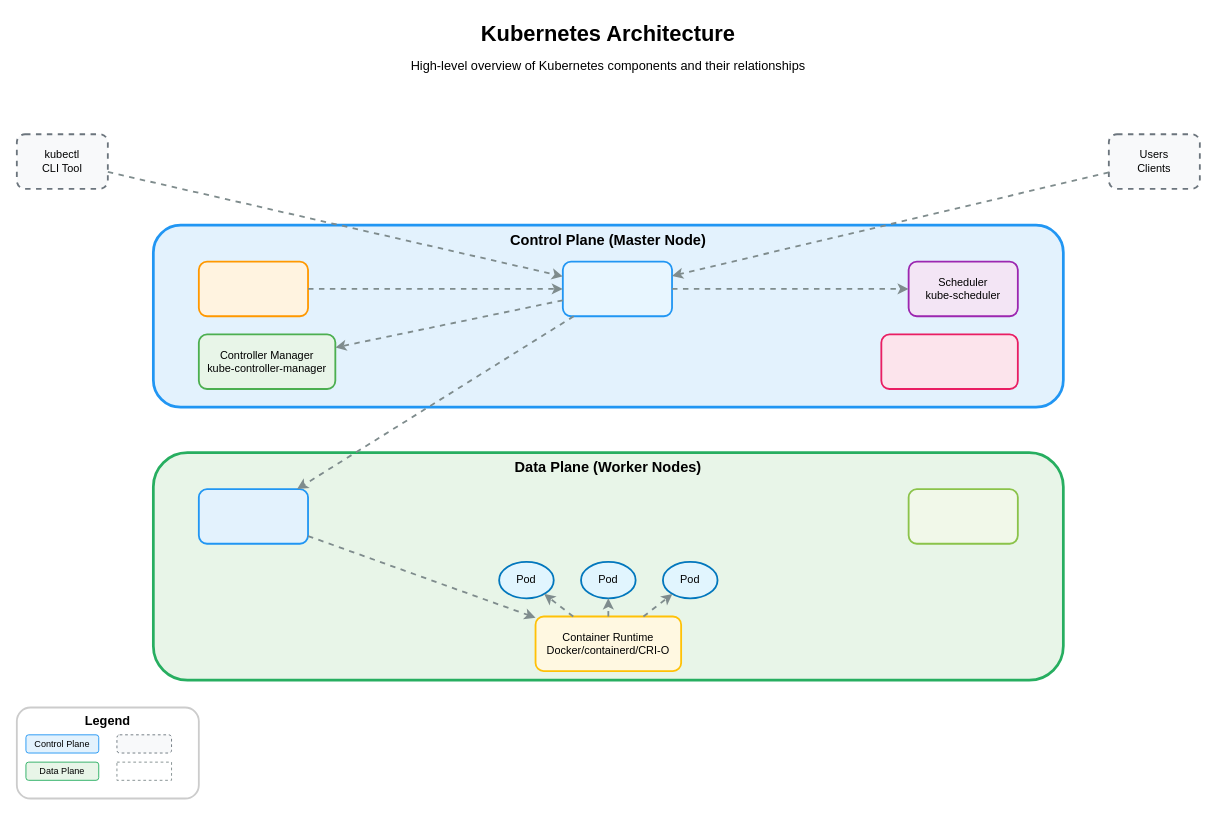
The diagram is 1216 pixels wide and 814 high, and some of its shapes have lost their labels. The centre of each missing label's shape, as x and y in pixels:
"API Server kube-apiserver" belongs at (616,288).
"Cloud Controller cloud-controller-manager" belongs at (949,361).
"Connection" belongs at (144,770).
"etcd Key-Value Store" belongs at (252,288).
"External" belongs at (144,743).
"Kube Proxy Network Proxy" belongs at (962,516).
"Kubelet Node Agent" belongs at (252,516).
